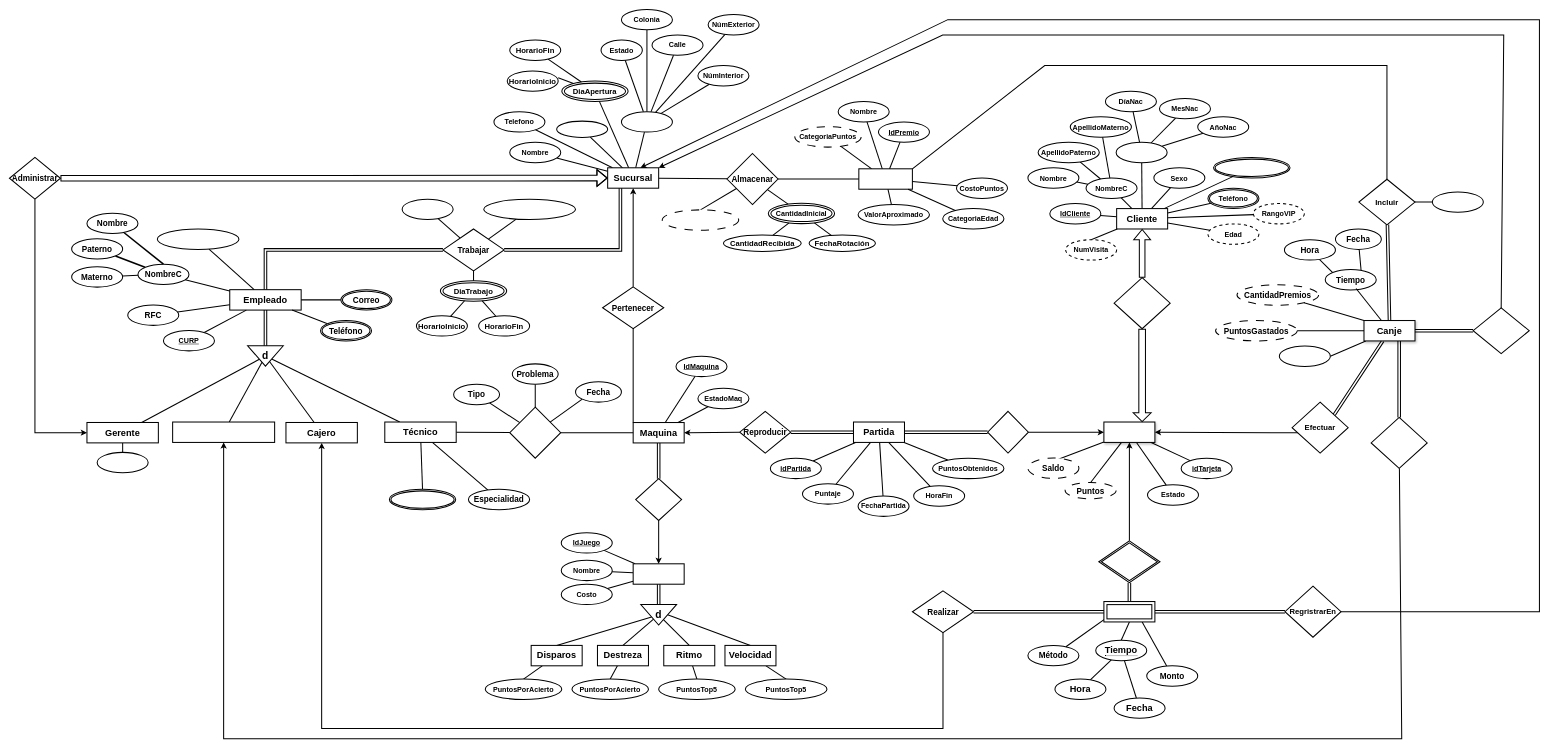
This 1552x752 diagram has some shape labels left out. Each missing label, with the centre of its shape:
"Atender" belongs at (1398,443).
"Cantidad" belongs at (1458,202).
"CantidadDisponible" belongs at (700,220).
"Certificacion" belongs at (422,499).
"CorreoElectronico" belongs at (1251,167).
"Cédula" belongs at (122,462).
"Dirección" belongs at (647,121).
"EncargadoPremios" belongs at (223,432).
"FechaContratación" belongs at (529,209).
"FechaNac" belongs at (1141,152).
"FechaNacimiento" belongs at (198,239).
"IdCanje" belongs at (1305,356).
"IdSucursal" belongs at (582,129).
"Instalar" belongs at (658,499).
"Juego" belongs at (658,573).
"Jugar" belongs at (1008,432).
"OcurrirEn" belongs at (1500,330).
"Pedir" belongs at (1129,561).
"Premio" belongs at (885,178).
"Recarga" belongs at (1129,611).
"Registrar" belongs at (1141,303).
"Reparar" belongs at (535,432).
"Salario" belongs at (427,209).
"Tarjeta" belongs at (1129,432).
